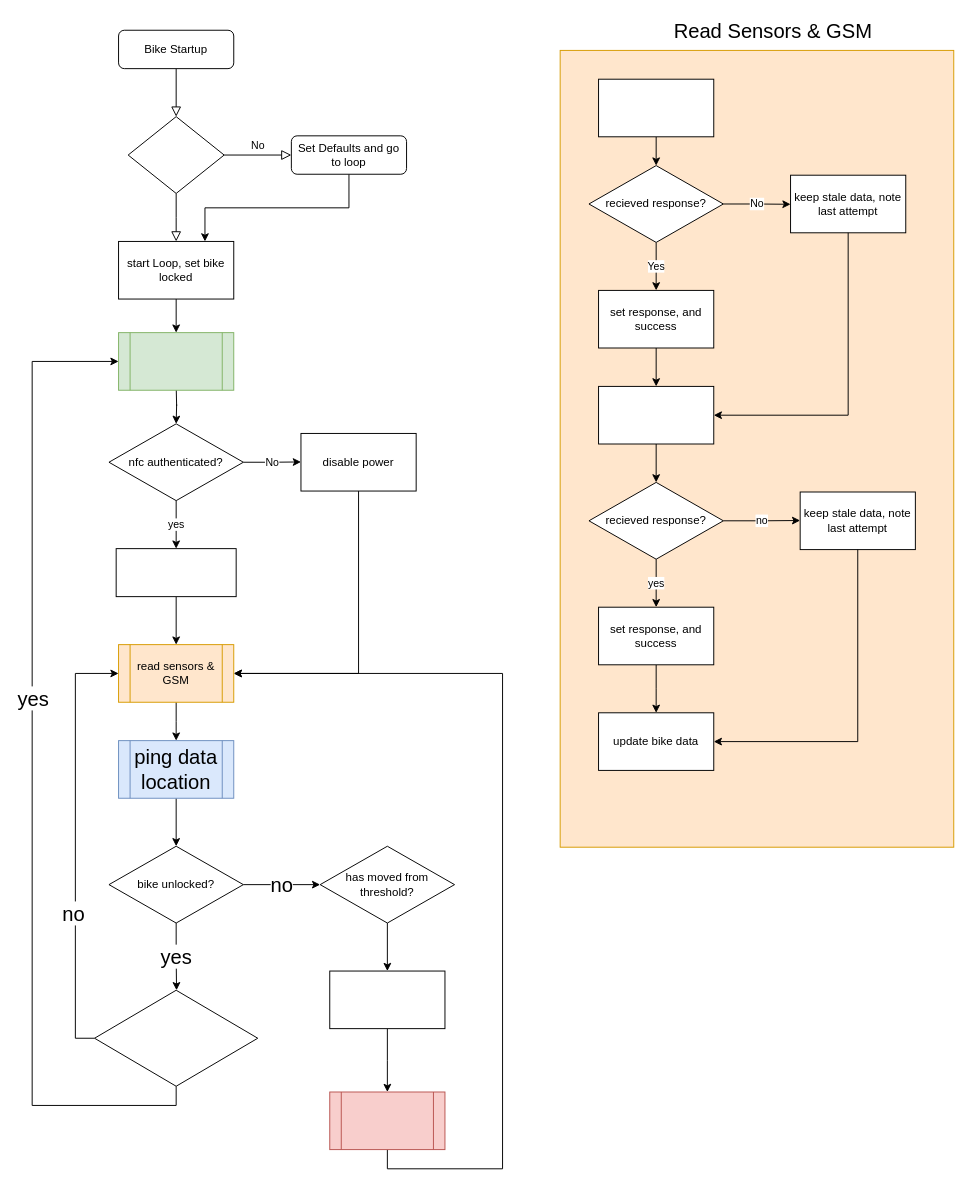
This 971x1193 diagram has some shape labels left out. The centre of each missing label's shape, as x and y in pixels:
"buzzer sound" goes at point 387,999.
"call for help" goes at point 387,1120.
"Modules loaded?" goes at point 175,154.
"nfc detected toggle" goes at point 176,1037.
"read GSM" goes at point 656,107.
"read NFC" goes at point 176,361.
"read sensor" goes at point 656,414.
"set unlocked, enable bike power" goes at point 175,572.
